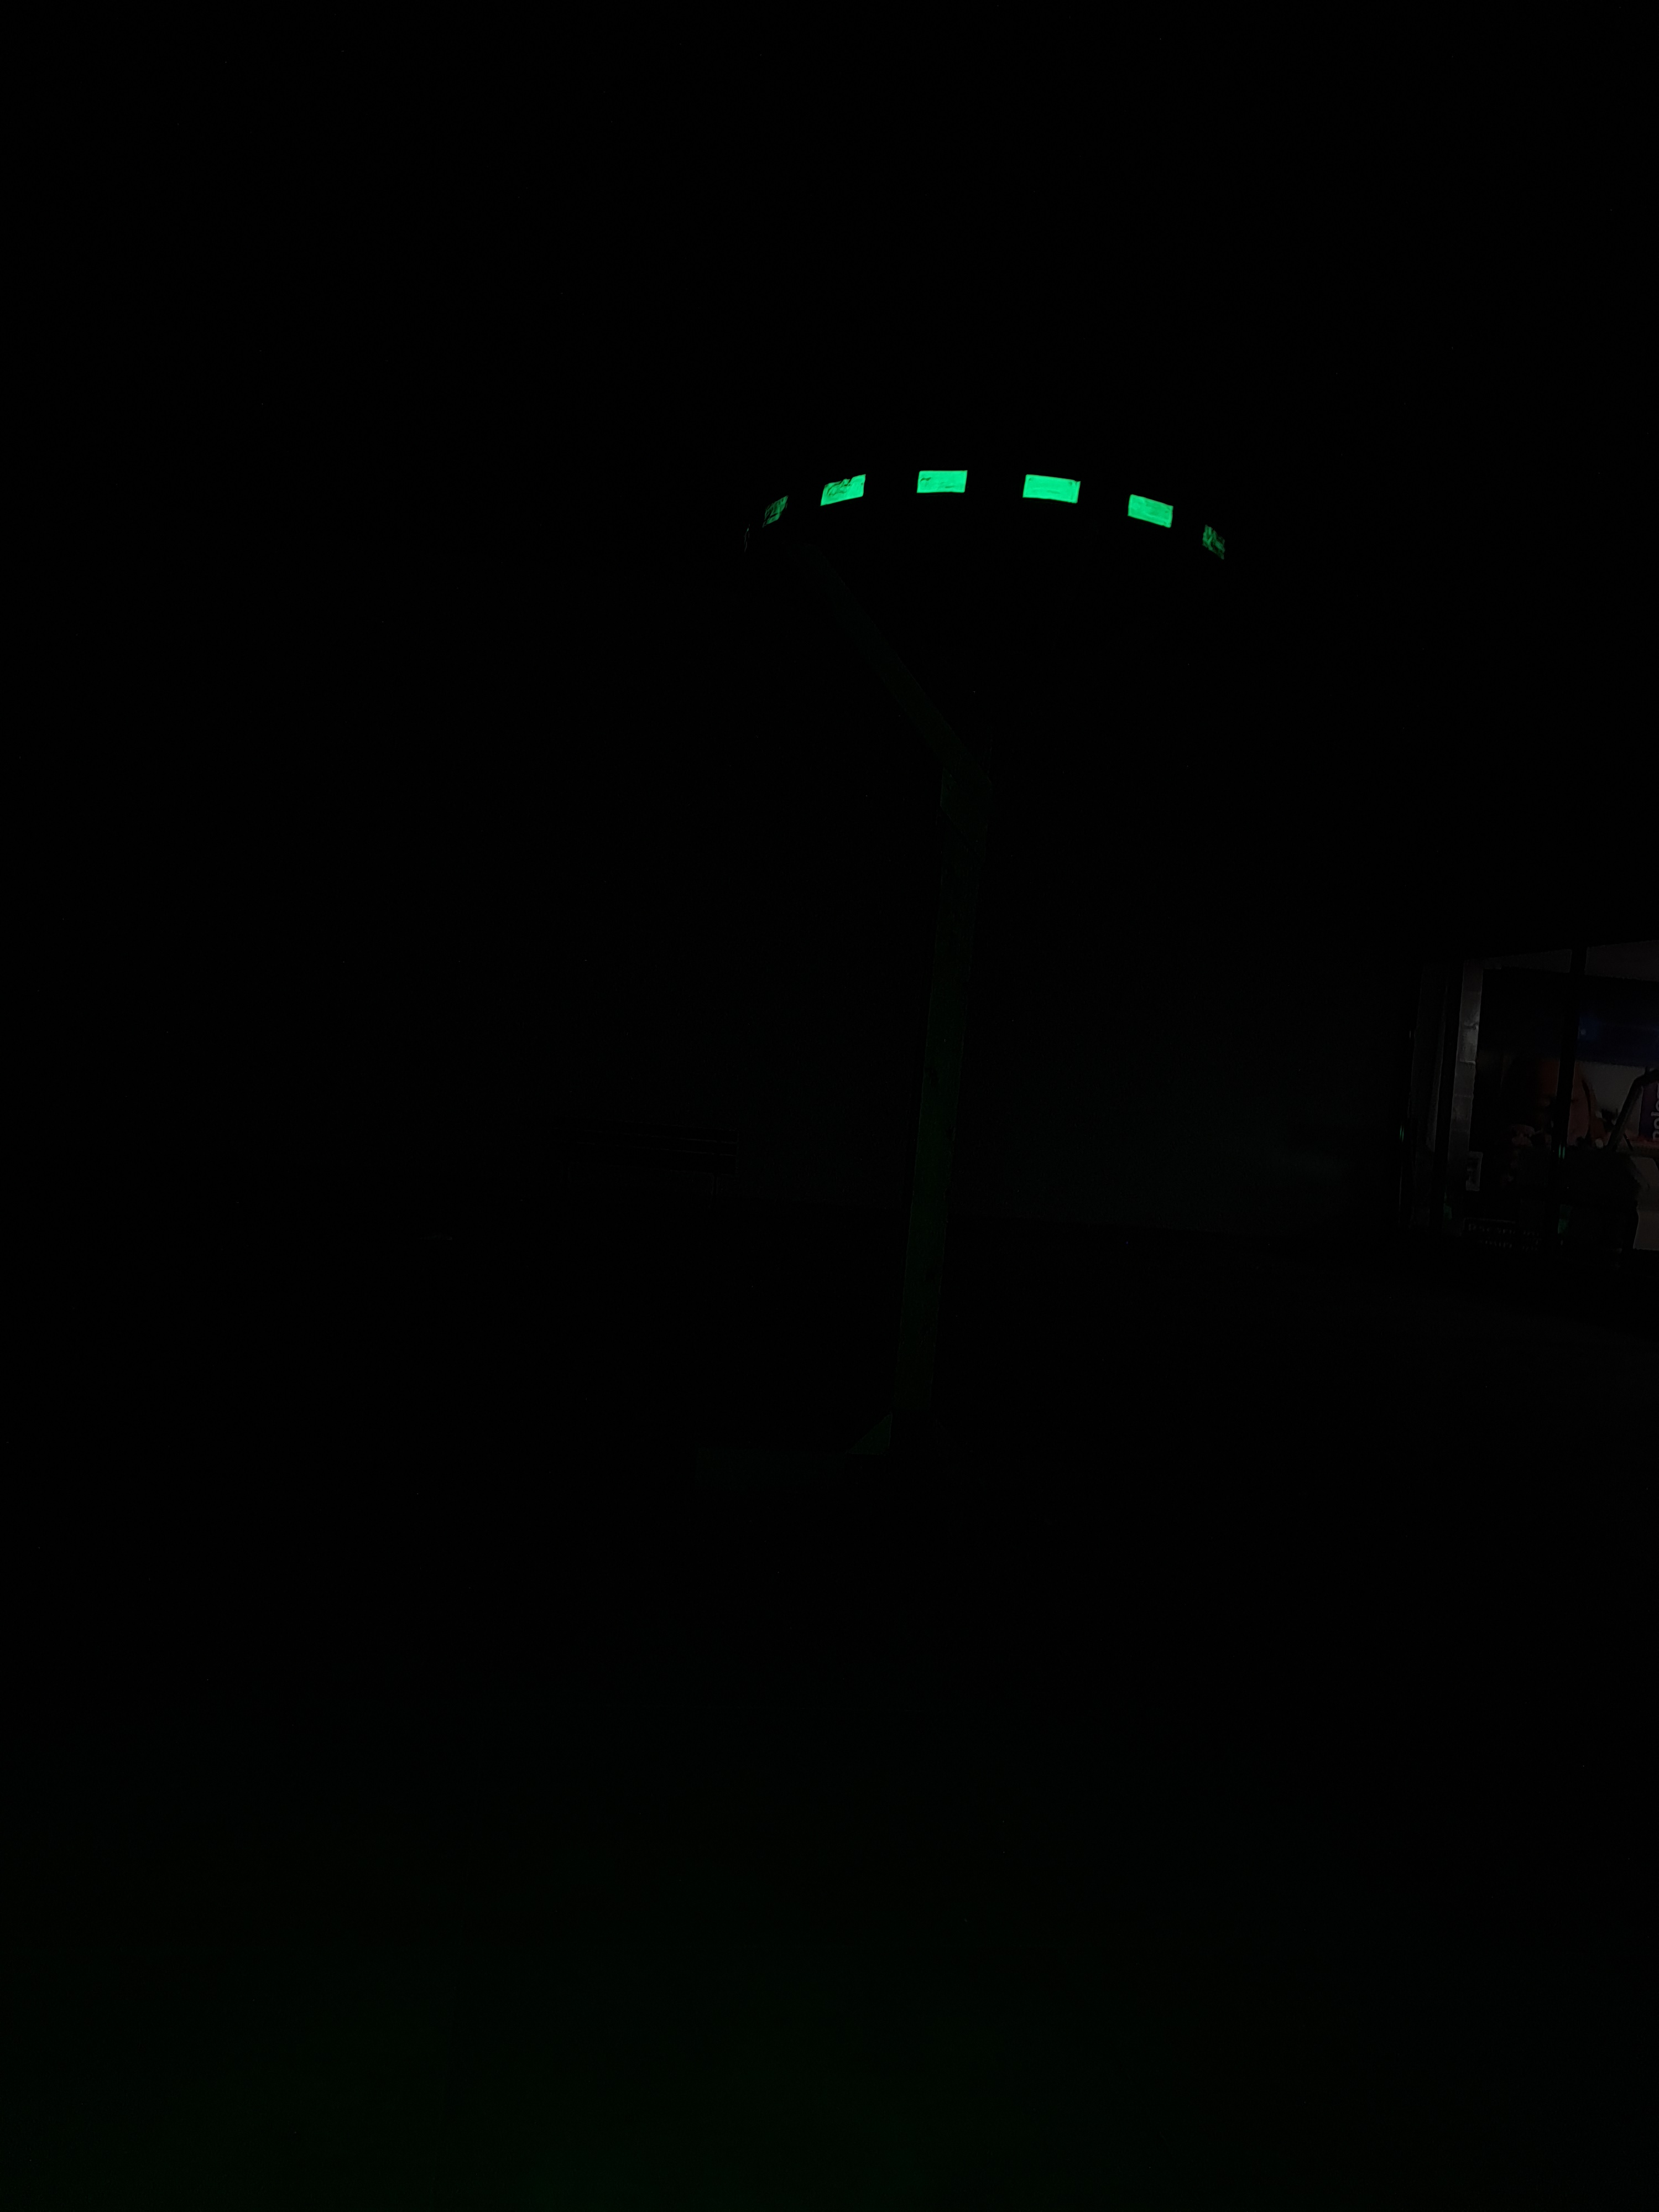hoop: (721, 430, 1260, 594)
